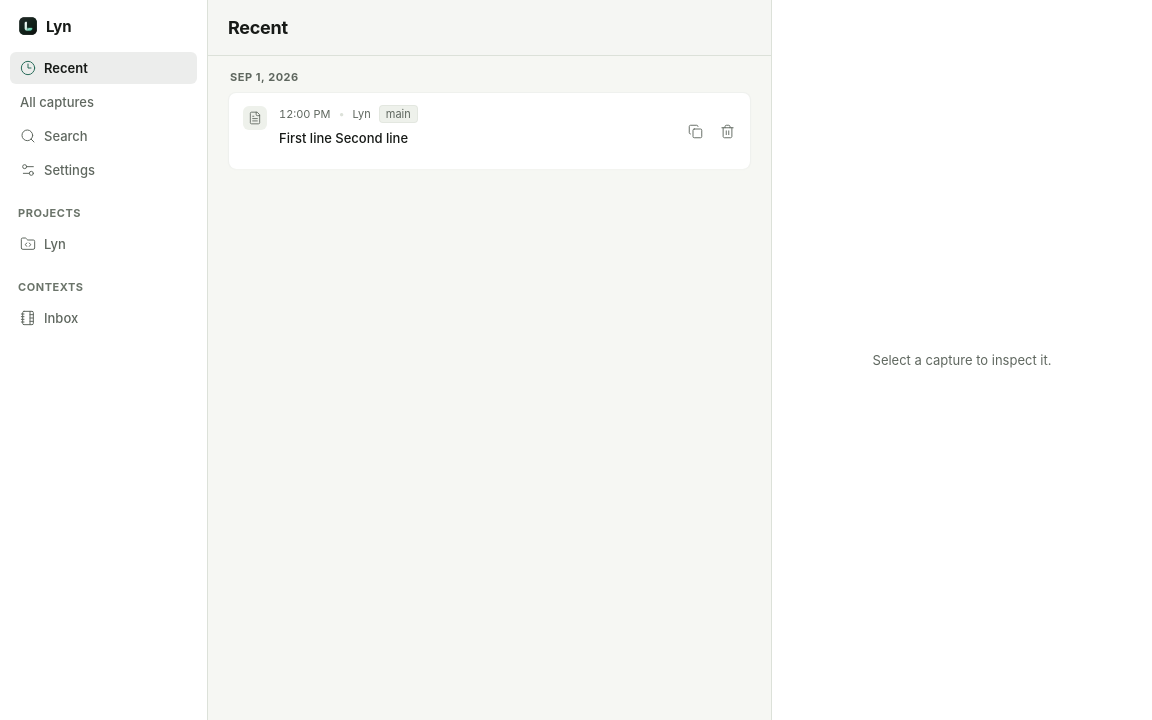
responsive Library › abandons a stream deletion on cancel and on Escape
Click the button named "Delete capture — Lyn, 12:00 PM" at coordinates (727, 131), box top-left (712, 116), bottom-right (742, 146)
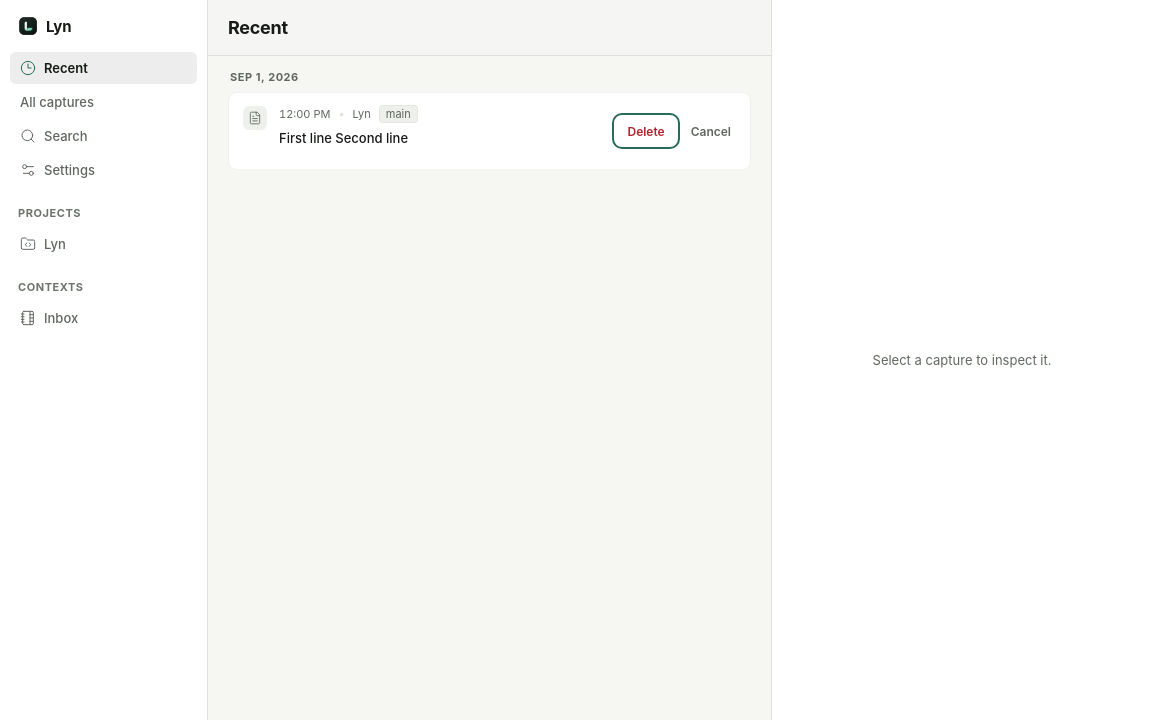
Click the button "Cancel" at coordinates (711, 131), box top-left (680, 117), bottom-right (742, 145)
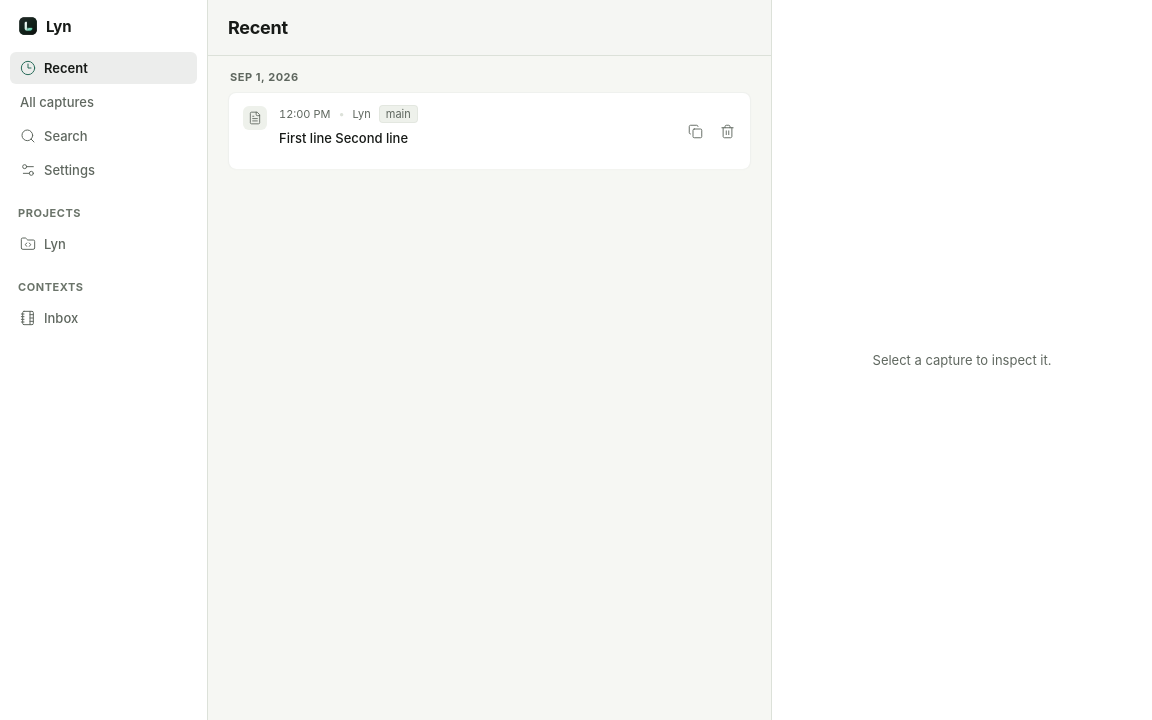
Now the button "Delete" is gone
Click the button named "Delete capture — Lyn, 12:00 PM" at coordinates (727, 131), box top-left (712, 116), bottom-right (742, 146)
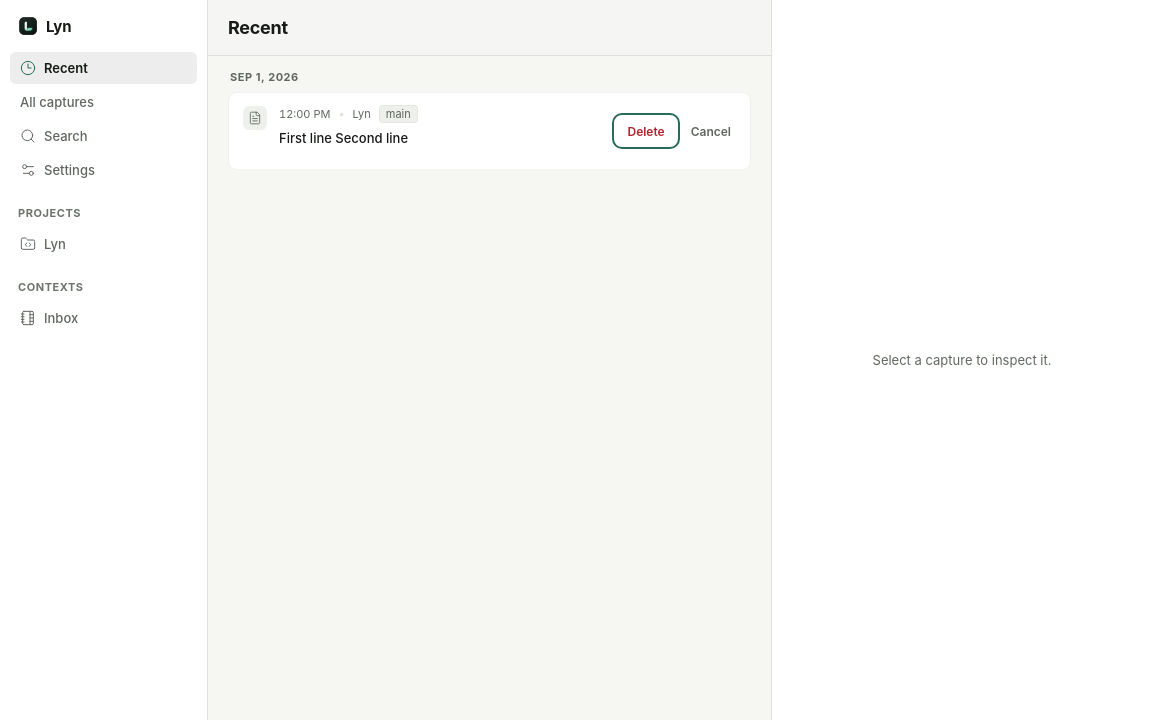
Press Escape
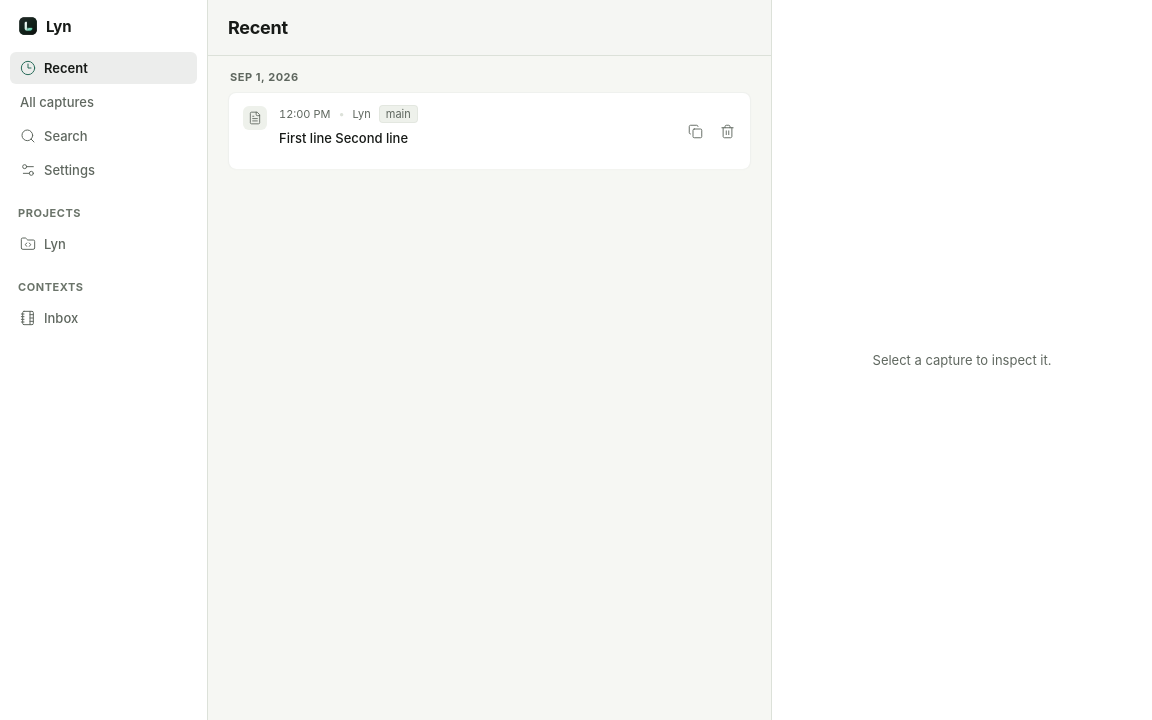
Now the button "Delete" is gone
